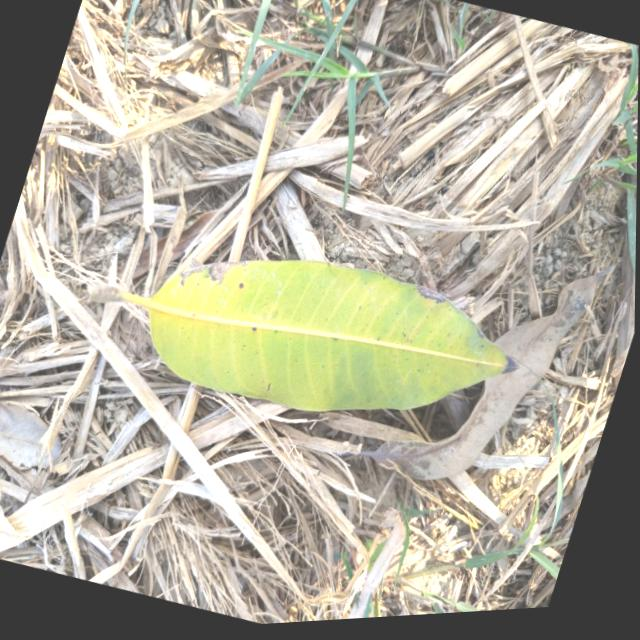Anthracnose: (236, 280, 245, 292)
Bacterial Cancer: (204, 254, 235, 285), (412, 288, 447, 306), (416, 282, 441, 297)
